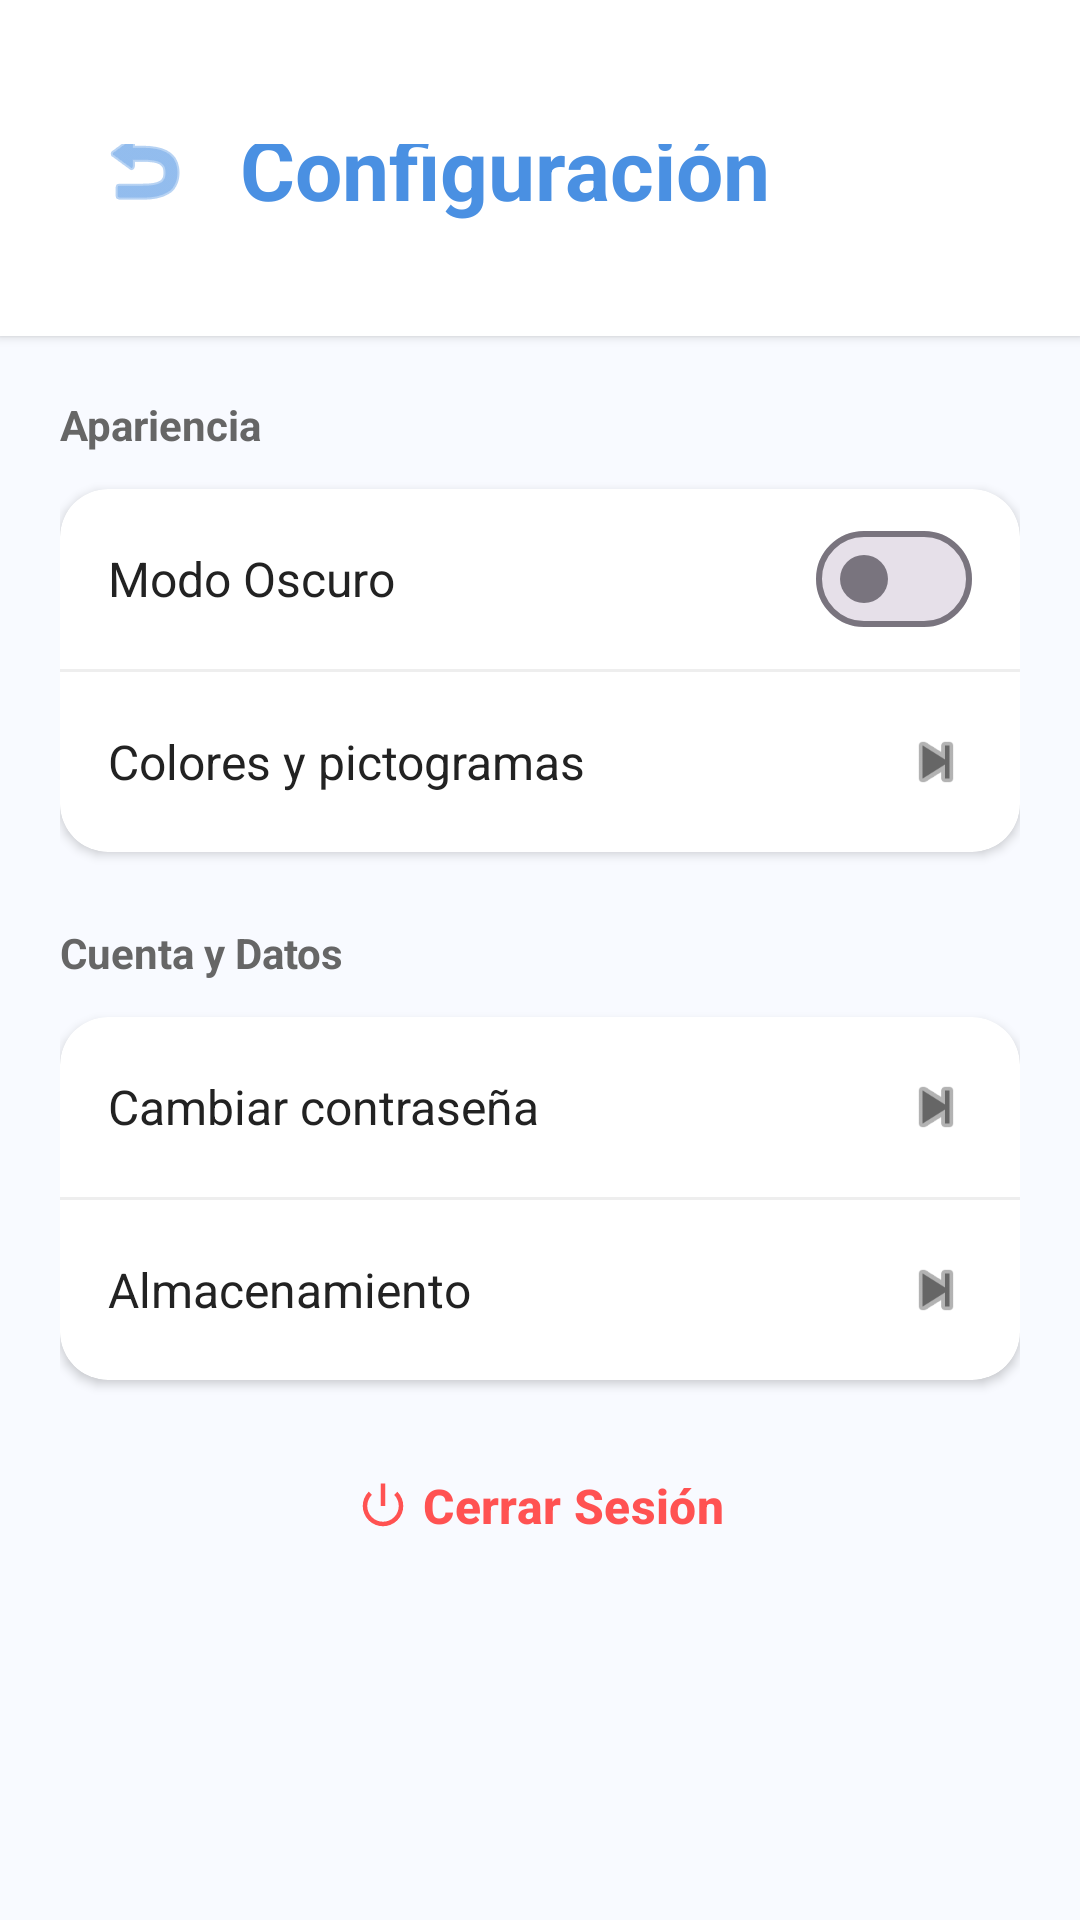

Screen size 1080px×1920px. Icon name, then its box in pixels as (x1, y1, x2, y2):
next: (919, 742, 953, 782), (919, 1087, 953, 1127), (919, 1270, 953, 1310)
Regresar: (111, 144, 180, 200)
